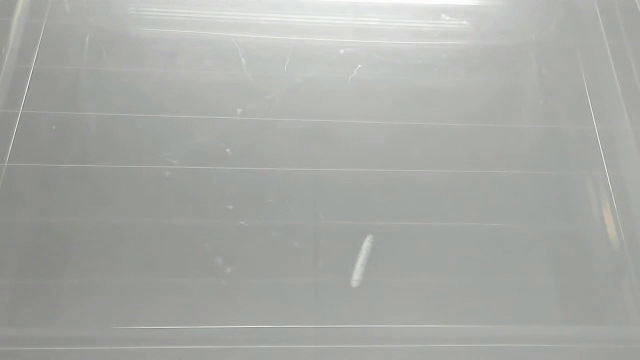alpha: (347, 230, 378, 292)
